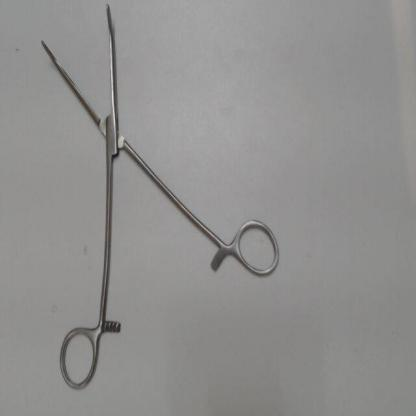Lahey Forceps: (30, 5, 288, 400)
